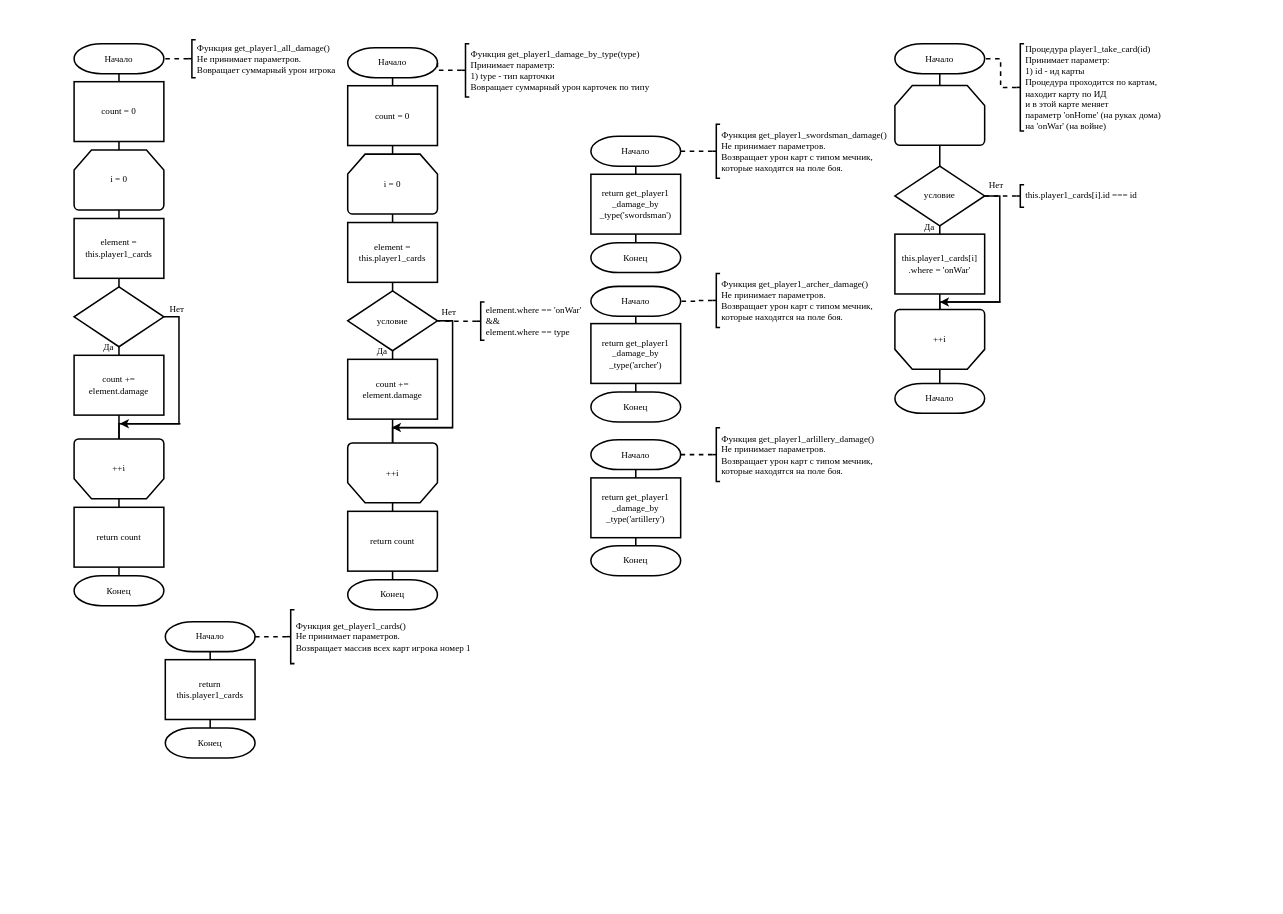
The diagram is 1283 pixels wide and 914 high, and some of its shapes have lost their labels. Each missing label, with the centre of its shape:
"element.where == 'onWar'" belongs at pixel 118 316.
"i = 0 i < this..player1 _cards.length" belongs at pixel 939 115.
